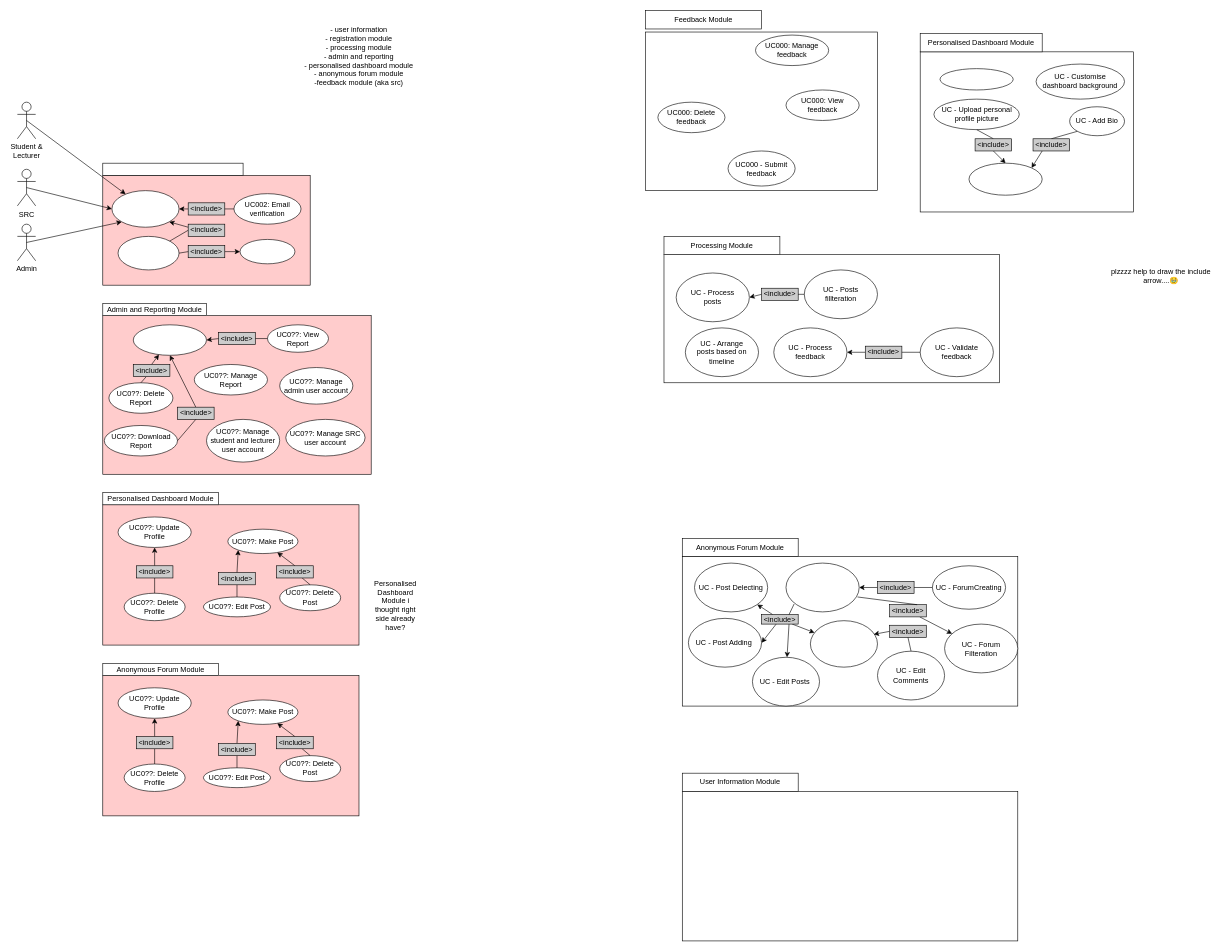
This 1230x952 diagram has some shape labels left out. The shapes that lost their labels are listed below. From the top down, each one's centre as x and y in pixels, then its label:
At (x=976, y=79): "UC: Make Posting".
At (x=172, y=169): "Registration and Authentication Module".
At (x=1005, y=179): "UC - Edit Personal information".
At (x=145, y=208): "UC001: Sign Up (UTM Email)".
At (x=148, y=253): "UC003: Reset password".
At (x=267, y=251): "UC004: Login".
At (x=169, y=339): "UC0??: Generate Report".
At (x=822, y=587): "UC- Forum Posting".
At (x=843, y=643): "UC-Forum Comments".
